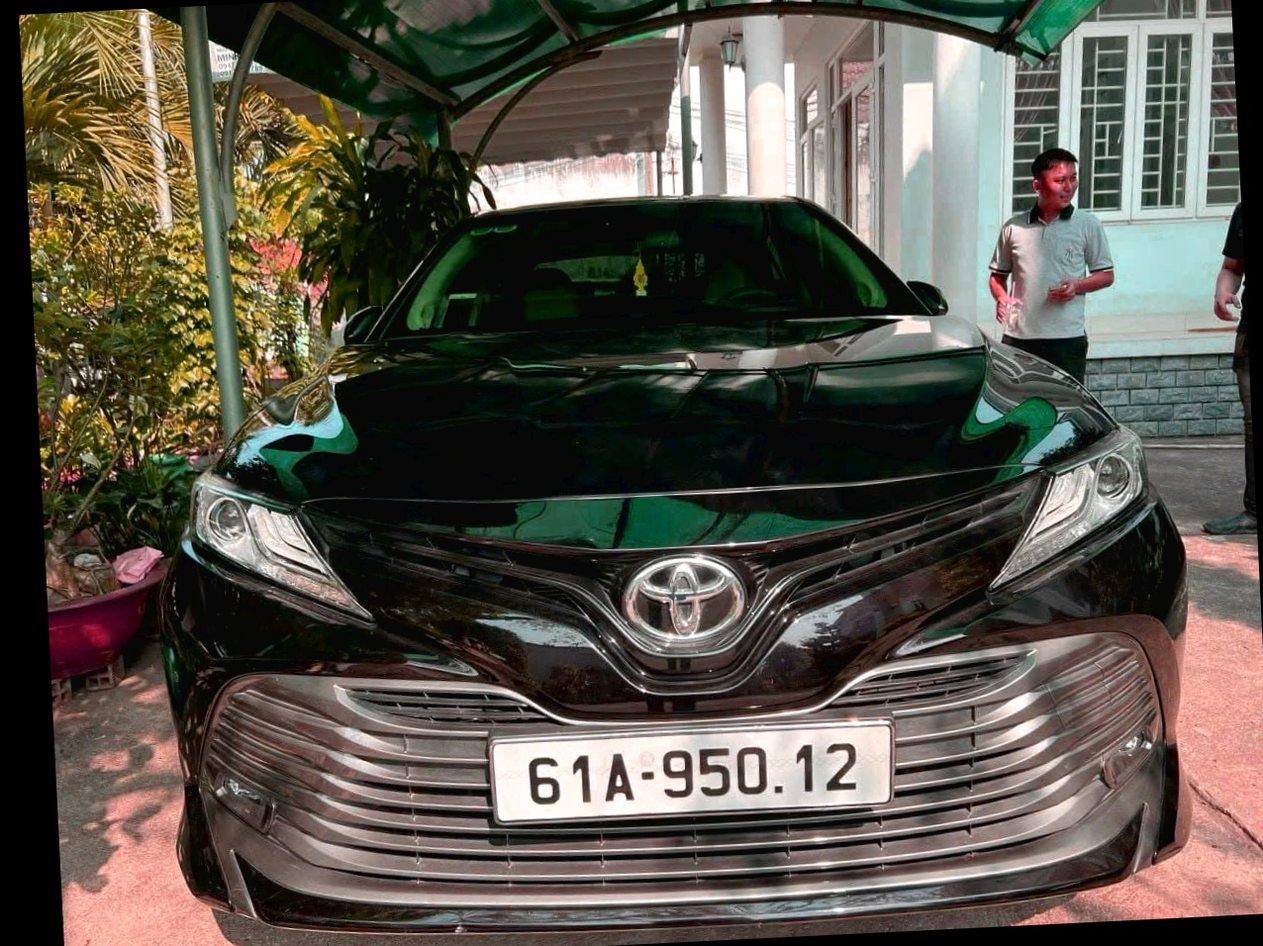Bien-so: (439, 712, 879, 830)
